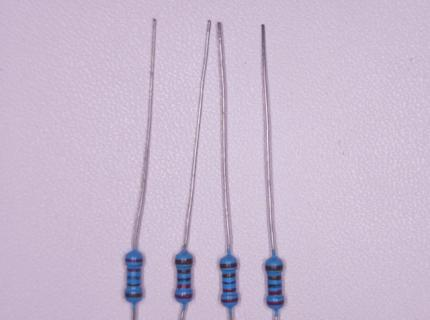Black band: (177, 277, 191, 282), (268, 283, 281, 288), (222, 281, 236, 285), (127, 275, 140, 279)
Brown band: (265, 264, 283, 271), (175, 258, 193, 264), (219, 262, 237, 268), (125, 292, 142, 298), (177, 269, 191, 274), (222, 273, 236, 278), (268, 275, 281, 280), (127, 283, 141, 286)
Red band: (221, 297, 239, 303), (266, 300, 285, 305), (174, 294, 193, 299), (268, 289, 282, 295), (125, 258, 144, 262), (222, 288, 236, 292), (177, 284, 191, 288), (127, 268, 141, 272)
